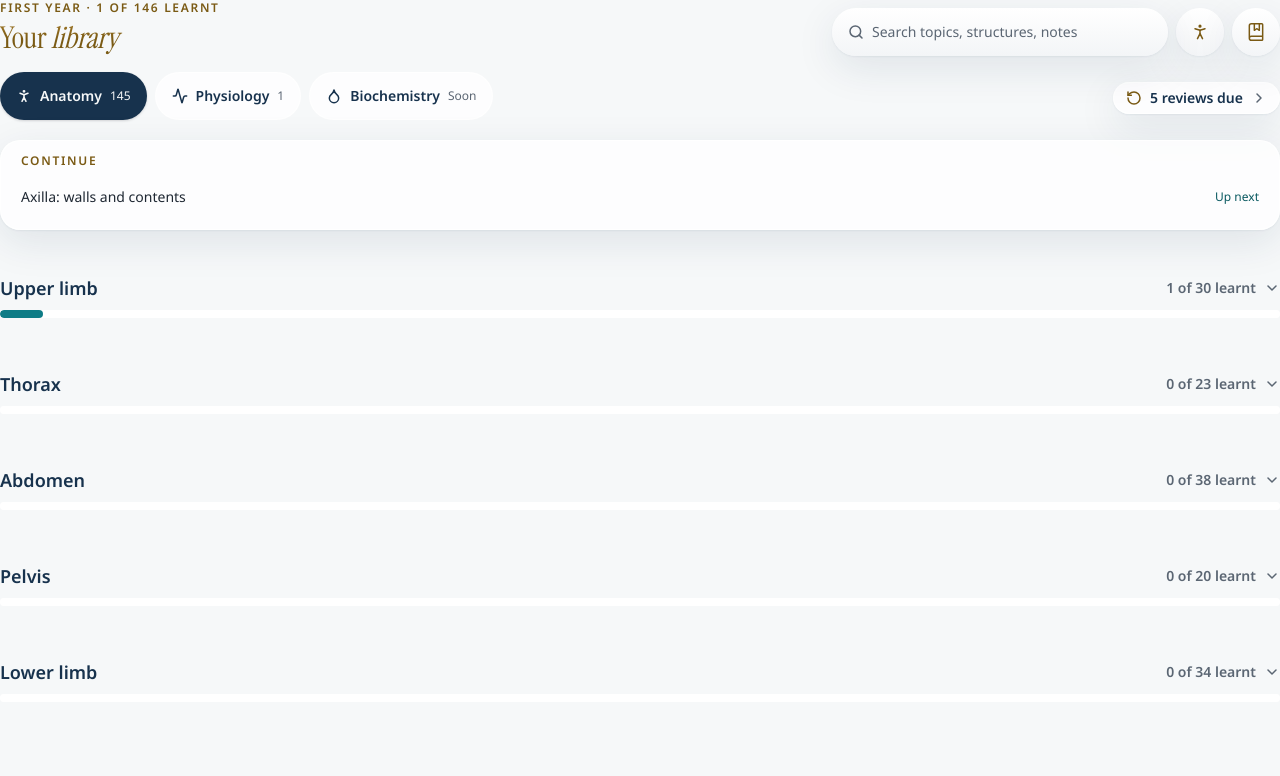
Library › switches subjects, and shows what is learnt and which books are chosen
Expected: the text "1 of 30 learnt" is shown, [1166,278,1279,302]
Expected: the button "Axilla: walls and contents Up next" is shown, [9,173,1271,221]
Step 1. Click the button "Upper limb 1 of 30 learnt" → (49, 288), box [0,254,1279,302]
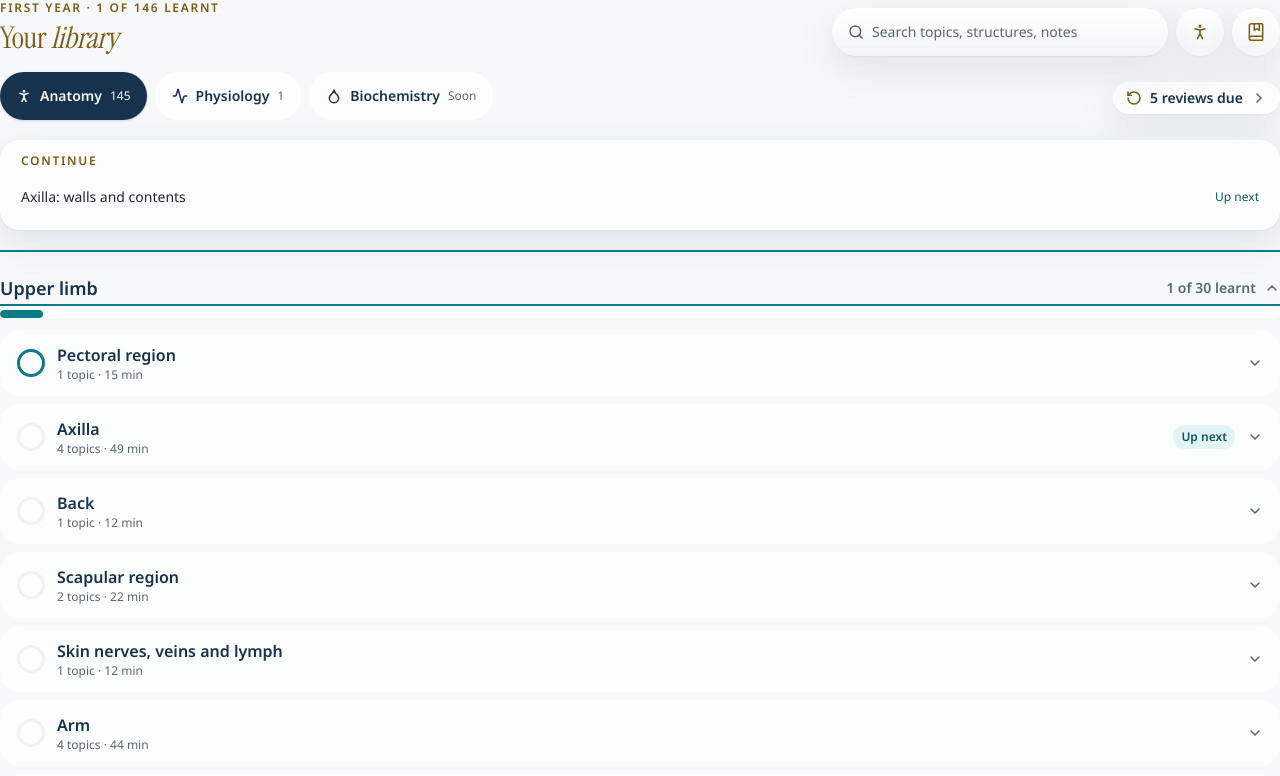
Now the button "Axilla 4 topics · 49 min Up next" is shown, box [1,405,1279,469]
Step 2. Click the button "Physiology 1" → (228, 96), box [155,72,301,120]
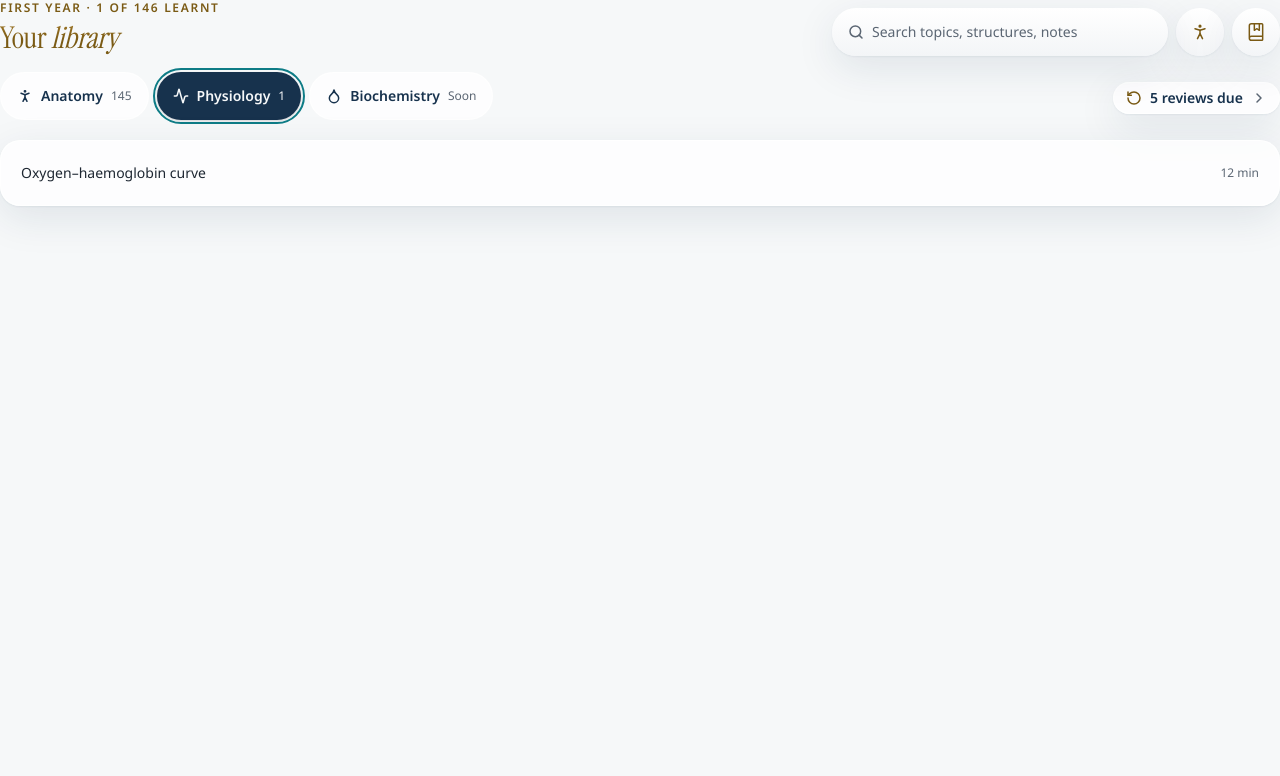
Now the button "Oxygen–haemoglobin curve 12 min" is shown, box [9,149,1271,197]
Step 3. Click the button "Biochemistry Soon" → (401, 96), box [309,72,494,120]
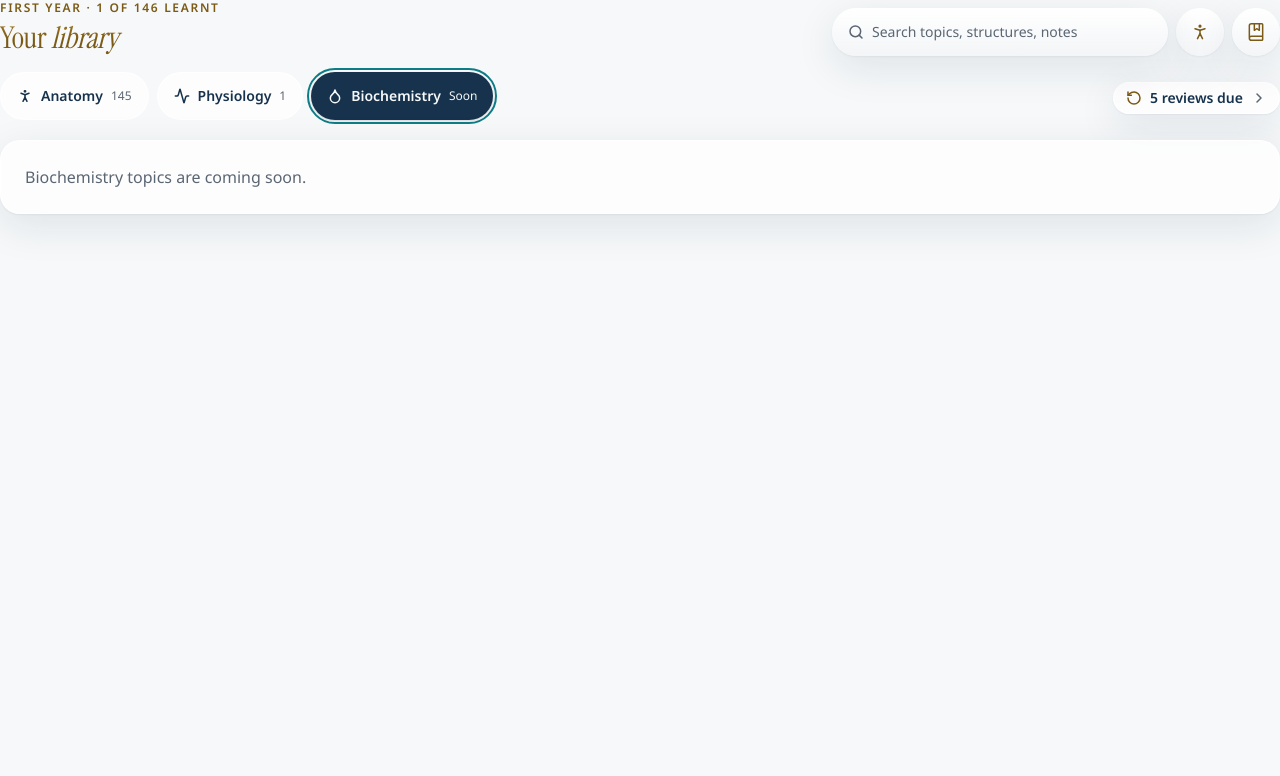
Now the text "Biochemistry topics are coming soon." is shown, box [25,166,306,188]
